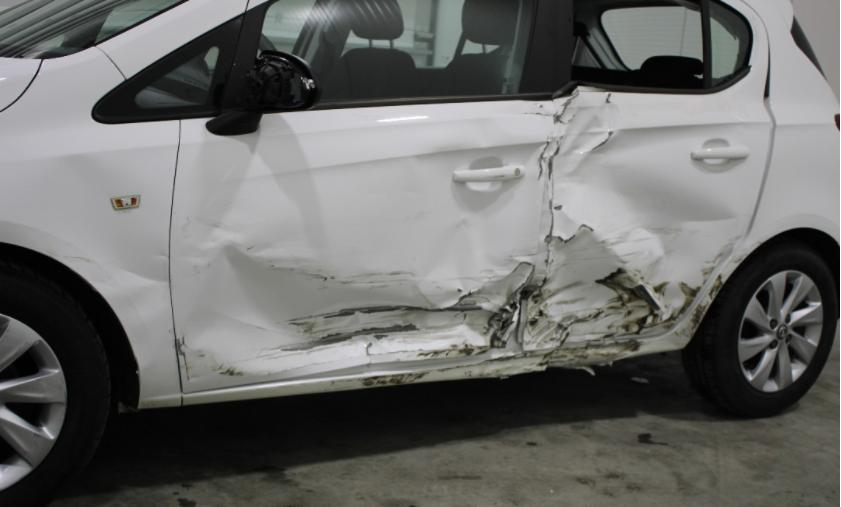Back-door: (517, 0, 775, 354)
Back-wheel: (680, 245, 839, 418)
Back-window: (570, 0, 704, 90), (709, 0, 749, 87)
Fender: (1, 47, 181, 409)
Front-door: (168, 1, 560, 393)
Front-wheel: (0, 244, 112, 506)
Front-window: (259, 0, 537, 104), (95, 12, 244, 118)
Hood: (0, 58, 40, 110)
Quarter-panel: (673, 124, 840, 342)
Rocker-panel: (181, 330, 687, 406)
Trunk: (774, 0, 841, 131)
Windshield: (0, 0, 188, 60)
